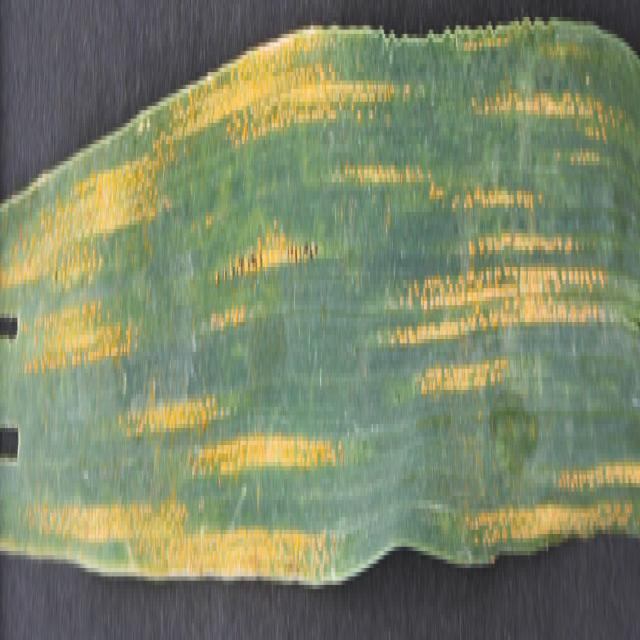leaf rust: (0, 4, 640, 589)
